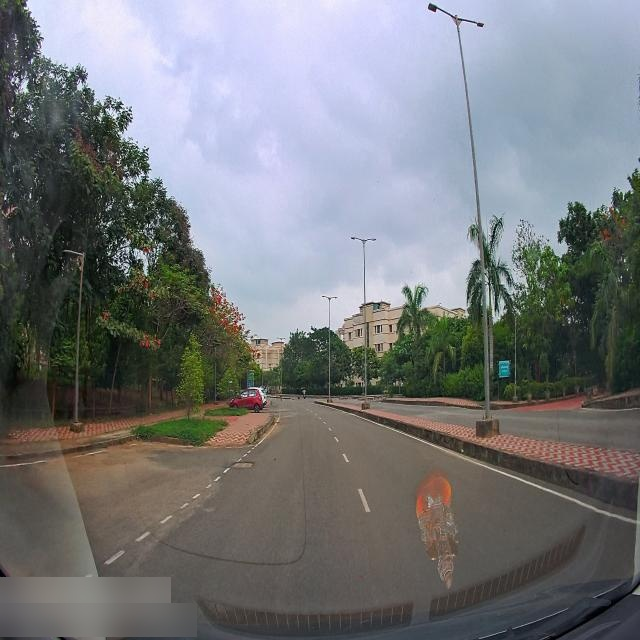pothole: (230, 452, 260, 481)
